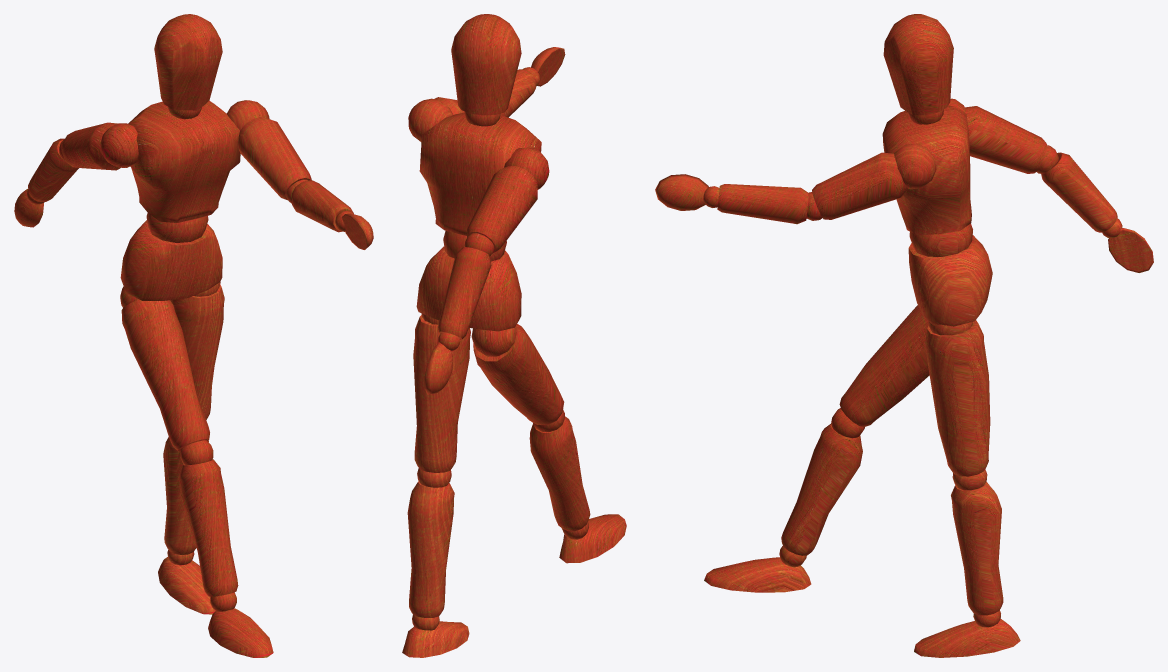
File: dummy_obj_walk_pose_2.obj
3 renders of one model, left to right at view 1: azimuth 30°, elevation 25°; view 2: azimuth 150°, elevation 25°; view 3: azimuth 270°, elevation 25°, orthographic. The views are drawn at different scales.
Visible parts, largest first — view 1: dummy_hips3 dummy_belly dummy_torso 메시, dummy_hips3 dummy_rpelvis dummy_rupleg 메시, dummy_hips3 메시, dummy_hips3 dummy_belly dummy_torso dummy_neck dummy_headq 메시, dummy_hips3 dummy_rpelvis dummy_rupleg dummy_rknee dummy_rleg 메시, dummy_hips3 dummy_lpelvis dummy_lupleg 메시, dummy_hips3 dummy_belly dummy_torso dummy_lshoulder dummy_larm 메, dummy_hips3 dummy_belly dummy_torso dummy_lshoulder dummy_larm d, dummy_hips3 dummy_rpelvis dummy_rupleg dummy_rknee dummy_rleg du, dummy_hips3 dummy_belly dummy_torso dummy_rshoulder dummy_rarm d, dummy_hips3 dummy_lpelvis dummy_lupleg dummy_lknee dummy_lleg 메시, dummy_hips3 dummy_lpelvis dummy_lupleg dummy_lknee dummy_lleg du (+5 smaller); view 2: dummy_hips3 dummy_belly dummy_torso 메시, dummy_hips3 dummy_belly dummy_torso dummy_neck dummy_headq 메시, dummy_hips3 dummy_lpelvis dummy_lupleg 메시, dummy_hips3 dummy_lpelvis dummy_lupleg dummy_lknee dummy_lleg 메시, dummy_hips3 dummy_belly dummy_torso dummy_rshoulder dummy_rarm d, dummy_hips3 dummy_rpelvis dummy_rupleg 메시, dummy_hips3 메시, dummy_hips3 dummy_rpelvis dummy_rupleg dummy_rknee dummy_rleg 메시, dummy_hips3 dummy_belly dummy_torso dummy_rshoulder dummy_rarm 메, dummy_hips3 dummy_rpelvis dummy_rupleg dummy_rknee dummy_rleg du, dummy_hips3 dummy_lpelvis dummy_lupleg dummy_lknee dummy_lleg du, dummy_hips3 dummy_belly dummy_torso dummy_lshoulder dummy_larm d (+6 smaller); view 3: dummy_hips3 dummy_lpelvis dummy_lupleg 메시, dummy_hips3 dummy_belly dummy_torso 메시, dummy_hips3 dummy_belly dummy_torso dummy_neck dummy_headq 메시, dummy_hips3 dummy_rpelvis dummy_rupleg 메시, dummy_hips3 메시, dummy_hips3 dummy_rpelvis dummy_rupleg dummy_rknee dummy_rleg 메시, dummy_hips3 dummy_lpelvis dummy_lupleg dummy_lknee dummy_lleg 메시, dummy_hips3 dummy_belly dummy_torso dummy_lshoulder dummy_larm d, dummy_hips3 dummy_belly dummy_torso dummy_rshoulder dummy_rarm d, dummy_hips3 dummy_belly dummy_torso dummy_lshoulder dummy_larm 메, dummy_hips3 dummy_belly dummy_torso dummy_rshoulder dummy_rarm 메, dummy_hips3 dummy_rpelvis dummy_rupleg dummy_rknee dummy_rleg du (+3 smaller).
Part boxes in pixels (<box>): dummy_hips3 dummy_belly dummy_torso 메시: <box>128,100,240,222</box>; dummy_hips3 dummy_rpelvis dummy_rupleg 메시: <box>121,299,209,451</box>; dummy_hips3 메시: <box>120,220,222,300</box>; dummy_hips3 dummy_belly dummy_torso dummy_neck dummy_headq 메시: <box>154,14,222,110</box>; dummy_hips3 dummy_rpelvis dummy_rupleg dummy_rknee dummy_rleg 메시: <box>179,459,238,596</box>; dummy_hips3 dummy_lpelvis dummy_lupleg 메시: <box>170,284,224,419</box>; dummy_hips3 dummy_belly dummy_torso dummy_lshoulder dummy_larm 메: <box>237,117,311,200</box>; dummy_hips3 dummy_belly dummy_torso dummy_lshoulder dummy_larm d: <box>286,179,373,249</box>; dummy_hips3 dummy_rpelvis dummy_rupleg dummy_rknee dummy_rleg du: <box>208,592,273,657</box>; dummy_hips3 dummy_belly dummy_torso dummy_rshoulder dummy_rarm d: <box>14,138,78,227</box>; dummy_hips3 dummy_lpelvis dummy_lupleg dummy_lknee dummy_lleg 메시: <box>163,437,208,554</box>; dummy_hips3 dummy_lpelvis dummy_lupleg dummy_lknee dummy_lleg du: <box>158,550,215,614</box>; dummy_hips3 dummy_belly dummy_torso 메시: <box>419,112,541,235</box>; dummy_hips3 dummy_belly dummy_torso dummy_neck dummy_headq 메시: <box>451,14,521,115</box>; dummy_hips3 dummy_lpelvis dummy_lupleg 메시: <box>413,315,470,472</box>; dummy_hips3 dummy_lpelvis dummy_lupleg dummy_lknee dummy_lleg 메시: <box>407,481,454,617</box>; dummy_hips3 dummy_belly dummy_torso dummy_rshoulder dummy_rarm d: <box>424,233,494,394</box>; dummy_hips3 dummy_rpelvis dummy_rupleg 메시: <box>473,324,564,424</box>; dummy_hips3 메시: <box>416,246,521,331</box>; dummy_hips3 dummy_rpelvis dummy_rupleg dummy_rknee dummy_rleg 메시: <box>529,416,590,531</box>; dummy_hips3 dummy_belly dummy_torso dummy_rshoulder dummy_rarm 메: <box>467,166,537,253</box>; dummy_hips3 dummy_rpelvis dummy_rupleg dummy_rknee dummy_rleg du: <box>559,514,626,563</box>; dummy_hips3 dummy_lpelvis dummy_lupleg dummy_lknee dummy_lleg du: <box>402,615,469,657</box>; dummy_hips3 dummy_belly dummy_torso dummy_lshoulder dummy_larm d: <box>500,47,565,117</box>; dummy_hips3 dummy_lpelvis dummy_lupleg 메시: <box>925,320,990,476</box>; dummy_hips3 dummy_belly dummy_torso 메시: <box>882,105,971,235</box>; dummy_hips3 dummy_belly dummy_torso dummy_neck dummy_headq 메시: <box>883,14,953,115</box>; dummy_hips3 dummy_rpelvis dummy_rupleg 메시: <box>839,305,929,426</box>; dummy_hips3 메시: <box>908,235,992,326</box>; dummy_hips3 dummy_rpelvis dummy_rupleg dummy_rknee dummy_rleg 메시: <box>781,424,862,555</box>; dummy_hips3 dummy_lpelvis dummy_lupleg dummy_lknee dummy_lleg 메시: <box>951,481,1003,615</box>; dummy_hips3 dummy_belly dummy_torso dummy_lshoulder dummy_larm d: <box>655,174,822,224</box>; dummy_hips3 dummy_belly dummy_torso dummy_rshoulder dummy_rarm d: <box>1037,145,1153,272</box>; dummy_hips3 dummy_belly dummy_torso dummy_lshoulder dummy_larm 메: <box>812,152,908,219</box>; dummy_hips3 dummy_belly dummy_torso dummy_rshoulder dummy_rarm 메: <box>965,106,1046,173</box>; dummy_hips3 dummy_rpelvis dummy_rupleg dummy_rknee dummy_rleg du: <box>704,546,811,592</box>.
Size of the model in its own units: 46.9 by 178 by 130.
Materials: 29 (29 with a texture image).
